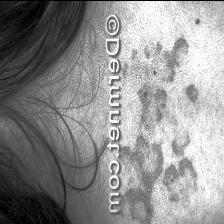Toxin: (130, 134, 164, 188), (172, 29, 190, 66)
